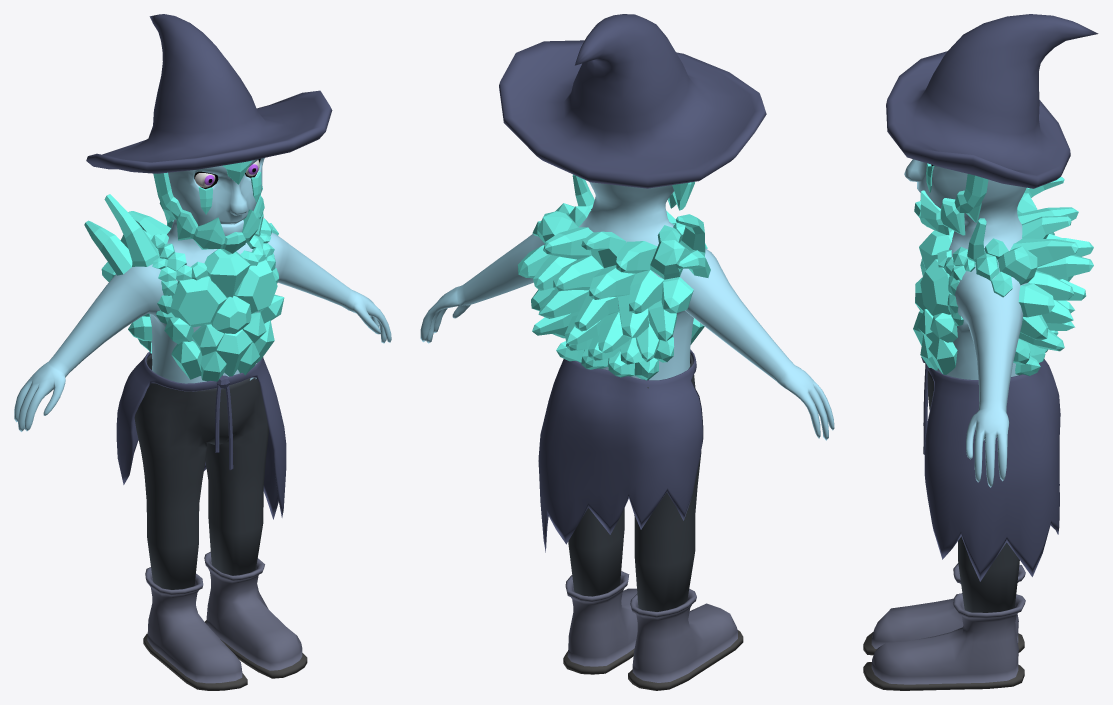
The model's file is NewChar5.fbx.
3 views of the same model, side by side, from view 1: azimuth 30°, elevation 25°; view 2: azimuth 150°, elevation 25°; view 3: azimuth 270°, elevation 25° (orthographic). The views are drawn at different scales.
Visible parts, largest first — view 1: Hose, Hut, Char Male, Schuhe, Cylinder, Umhang, Crystal2, Crystal2.002, Crystal2.001; view 2: Hut, Umhang, Crystal2, Char Male, Schuhe, Hose; view 3: Hut, Umhang, Char Male, Schuhe, Crystal2, Cylinder, Hose, Crystal2.002, Crystal2.001.
Boxes of the visible parts, <box> form: Hose: <box>134,354,268,589</box>; Hut: <box>86,14,332,173</box>; Char Male: <box>14,158,391,431</box>; Schuhe: <box>143,552,307,690</box>; Cylinder: <box>164,249,284,381</box>; Umhang: <box>116,351,286,519</box>; Crystal2: <box>84,194,278,353</box>; Crystal2.002: <box>153,160,264,254</box>; Crystal2.001: <box>156,247,278,323</box>; Hut: <box>499,14,766,188</box>; Umhang: <box>538,349,703,552</box>; Crystal2: <box>517,174,710,380</box>; Char Male: <box>420,182,834,440</box>; Schuhe: <box>563,571,743,690</box>; Hose: <box>568,354,701,611</box>; Hut: <box>886,14,1098,188</box>; Umhang: <box>921,357,1060,581</box>; Char Male: <box>904,159,1028,487</box>; Schuhe: <box>863,563,1025,690</box>; Crystal2: <box>951,177,1093,376</box>; Cylinder: <box>913,228,957,374</box>; Hose: <box>927,370,1019,612</box>; Crystal2.002: <box>914,163,988,235</box>; Crystal2.001: <box>943,257,963,325</box>.
Size of the model in its own units: 464 by 727 by 241.
